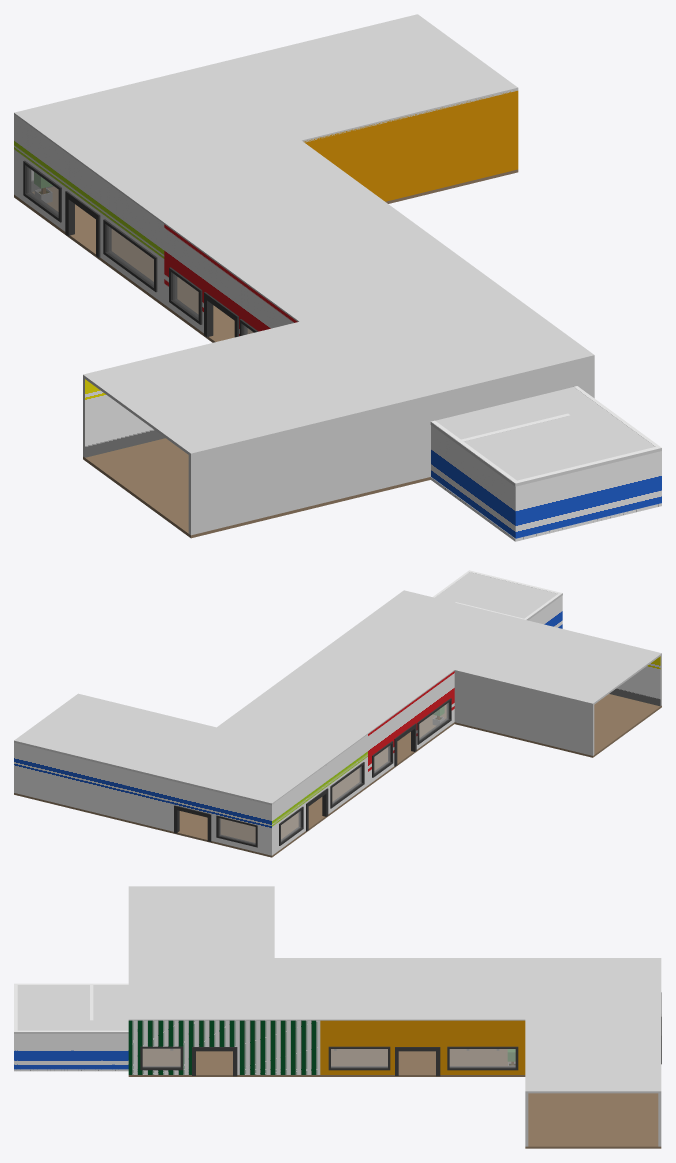
Rendered from Hallway.fbx.
The picture shows the model from 3 angles, top to bottom: view 1: azimuth 30°, elevation 25°; view 2: azimuth 150°, elevation 25°; view 3: azimuth 270°, elevation 25°; orthographic projection. The views are drawn at different scales.
Visible parts, largest first — view 1: Hallway_Ceiling, Hallway_Wall_2, Hallway_Wall_1, Toilet_Wall, Toilet_Ceiling, Hallway1, Window_Glass (×2), Window2, Toilet_Floor, Window3, Door_Frame1, Window1; view 2: Hallway_Ceiling, Hallway_Wall_1, Hallway1, Toilet_Ceiling, Window_Glass (×3), Hallway_Wall_2, Toilet_Wall, Window2, Window, Door_Frame4; view 3: Hallway_Ceiling, Hallway_Wall_2, Hallway1, Toilet_Ceiling, Toilet_Wall, Window_Glass (×3), Window5, Window6, Door_Frame3, Door_Frame2, Window7.
Boxes of the visible parts, x1=… form: Hallway_Ceiling: x1=14, y1=14, x2=594, y2=456; Hallway_Wall_2: x1=188, y1=90, x2=594, y2=535; Hallway_Wall_1: x1=14, y1=114, x2=297, y2=457; Toilet_Wall: x1=431, y1=386, x2=661, y2=538; Toilet_Ceiling: x1=430, y1=387, x2=661, y2=486; Hallway1: x1=14, y1=169, x2=518, y2=538; Window_Glass (×2): x1=27, y1=167, x2=153, y2=285; Window2: x1=103, y1=219, x2=157, y2=292; Toilet_Floor: x1=430, y1=477, x2=661, y2=541; Window3: x1=23, y1=160, x2=61, y2=222; Door_Frame1: x1=65, y1=191, x2=100, y2=257; Window1: x1=169, y1=267, x2=202, y2=324; Hallway_Ceiling: x1=14, y1=590, x2=661, y2=805; Hallway_Wall_1: x1=14, y1=671, x2=594, y2=855; Hallway1: x1=14, y1=694, x2=661, y2=857; Toilet_Ceiling: x1=435, y1=572, x2=562, y2=620; Window_Glass (×3): x1=219, y1=703, x2=448, y2=843; Hallway_Wall_2: x1=609, y1=655, x2=661, y2=706; Toilet_Wall: x1=432, y1=570, x2=562, y2=628; Window2: x1=330, y1=762, x2=364, y2=808; Window: x1=417, y1=698, x2=451, y2=744; Door_Frame4: x1=174, y1=805, x2=211, y2=841; Hallway_Ceiling: x1=128, y1=886, x2=661, y2=1093; Hallway_Wall_2: x1=128, y1=1020, x2=528, y2=1146; Hallway1: x1=128, y1=1049, x2=661, y2=1148; Toilet_Ceiling: x1=14, y1=985, x2=128, y2=1033; Toilet_Wall: x1=14, y1=983, x2=128, y2=1069; Window_Glass (×3): x1=142, y1=1048, x2=515, y2=1067; Window5: x1=447, y1=1046, x2=518, y2=1070; Window6: x1=328, y1=1046, x2=390, y2=1070; Door_Frame3: x1=192, y1=1047, x2=237, y2=1076; Door_Frame2: x1=395, y1=1047, x2=440, y2=1076; Window7: x1=140, y1=1046, x2=182, y2=1070.
Bounding box in the file's own units: 285 × 37.19 × 381.
Materials: 27 (7 with a texture image).
